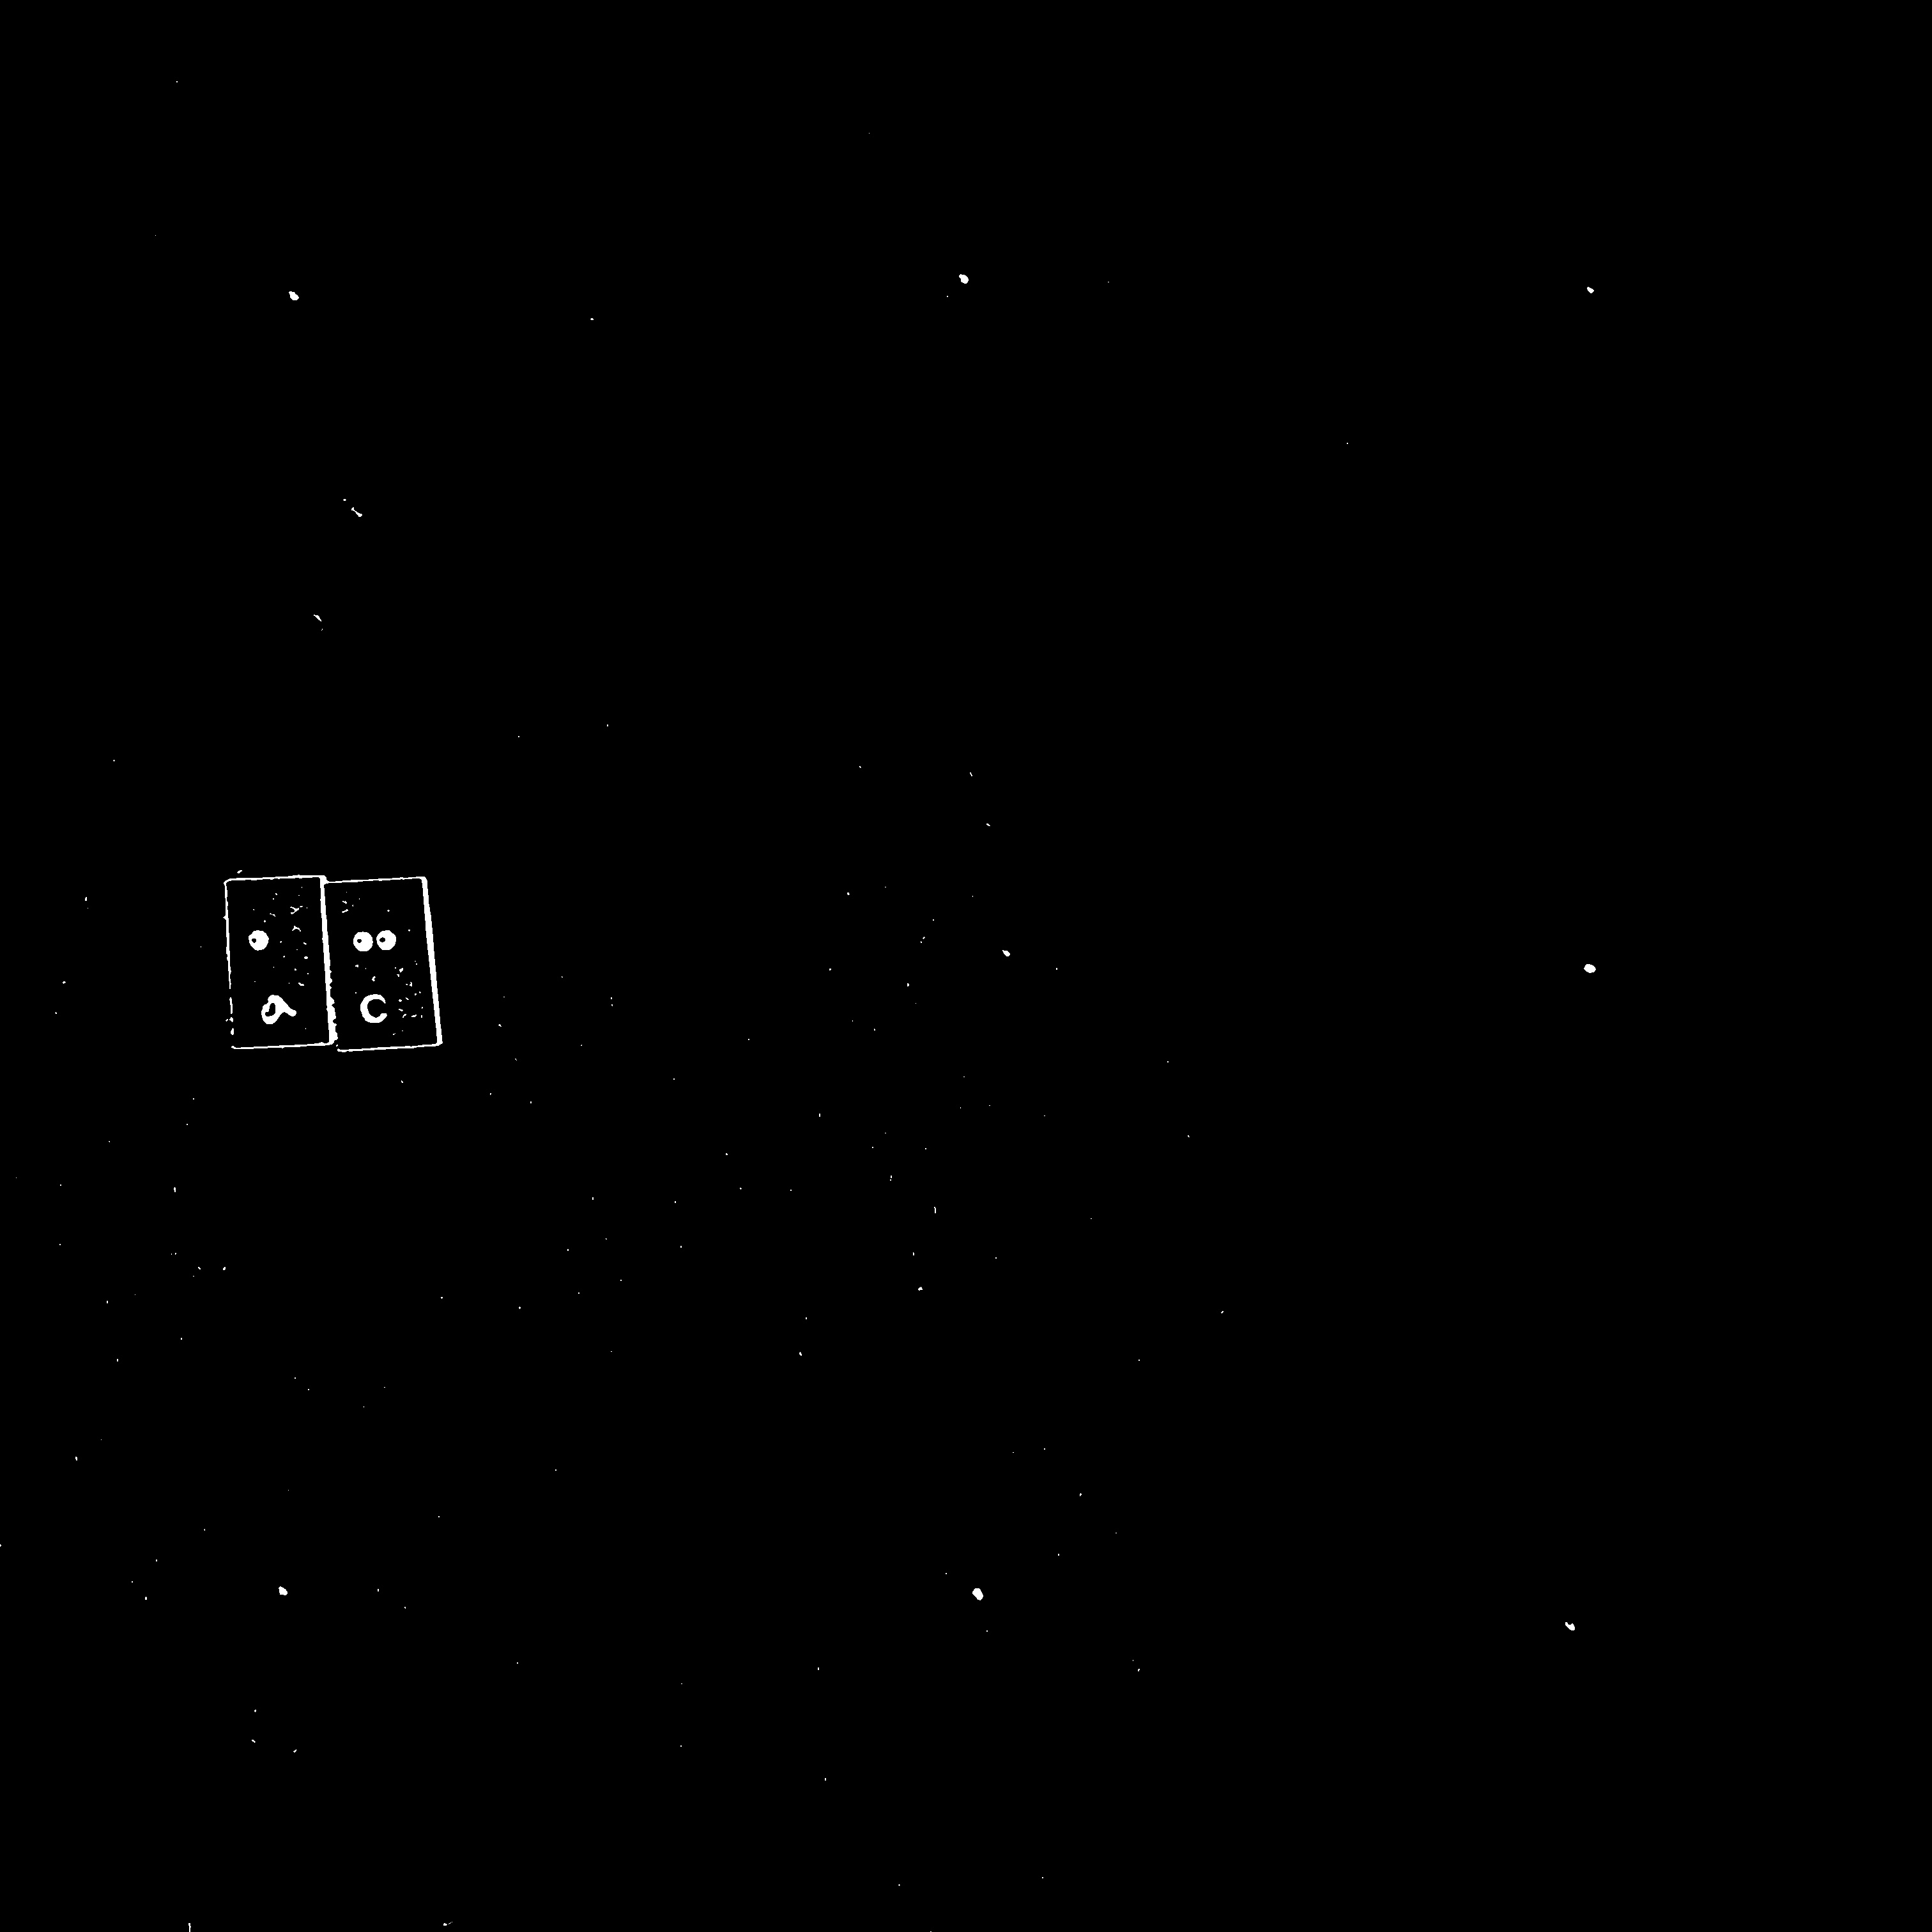a: (241, 921, 300, 998)
c: (349, 921, 404, 991)
